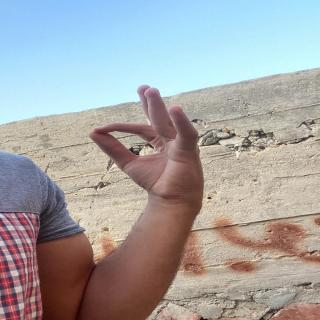Space: (89, 82, 206, 196)
